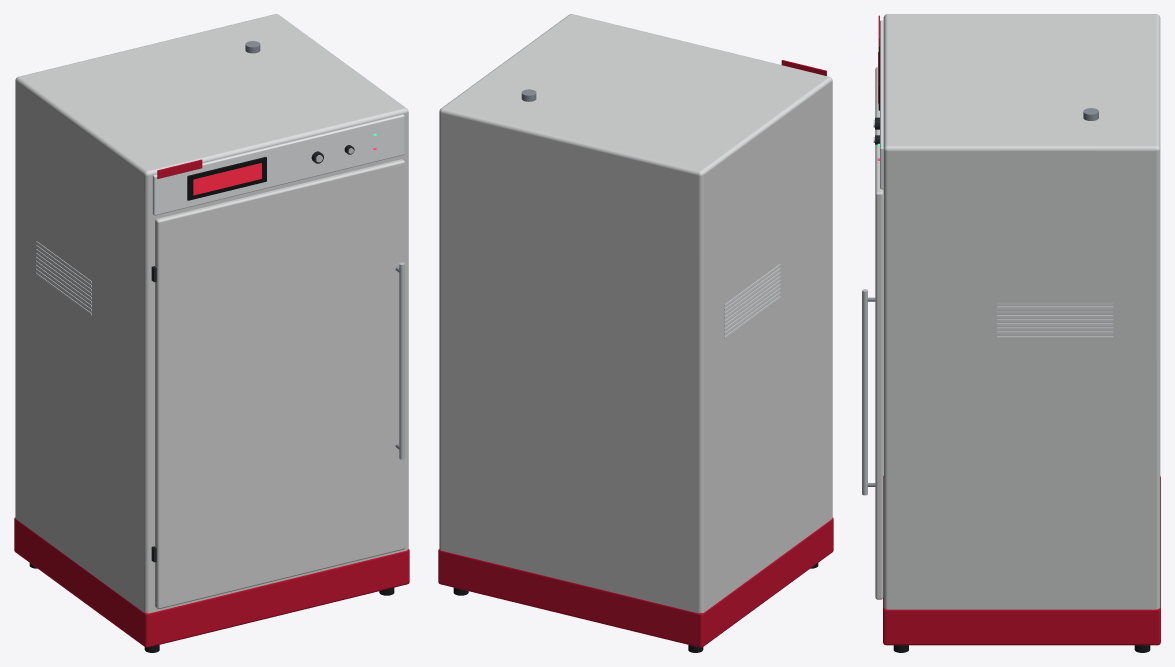
Rendered from nst-400.glb.
3 views of the same model, side by side, from view 1: azimuth 30°, elevation 25°; view 2: azimuth 150°, elevation 25°; view 3: azimuth 270°, elevation 25° (orthographic). The views are drawn at different scales.
Bounding box in the file's own units: 0.9036 × 1.61 × 0.842.
